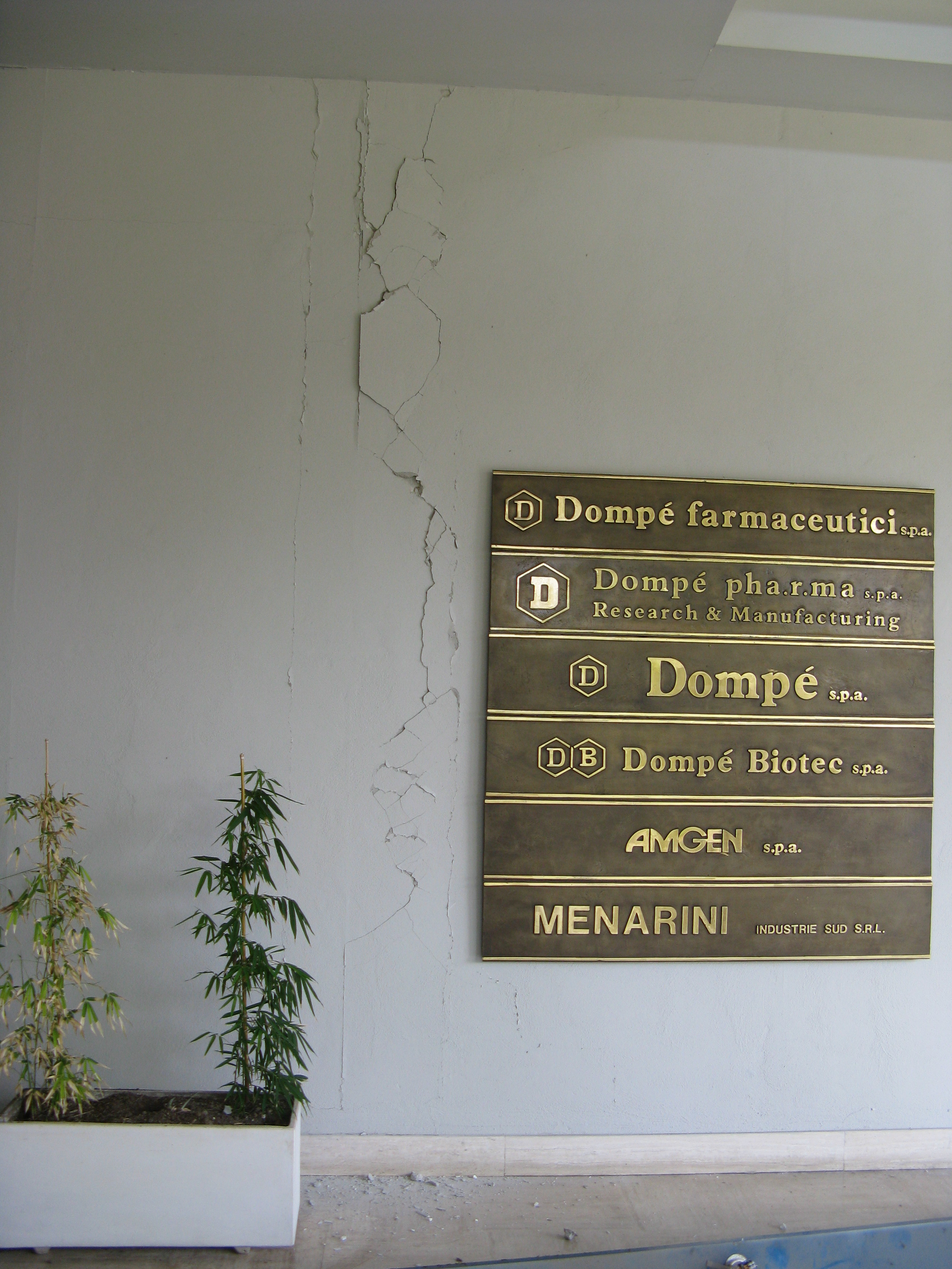Crack: (280, 75, 667, 1132), (2, 206, 313, 236)
Debris: (301, 1172, 621, 1246)
